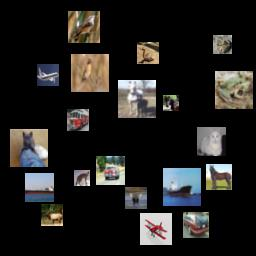airplane: (140, 213, 172, 245), (37, 64, 59, 86)
automobile: (96, 156, 125, 185), (183, 212, 209, 238)
bird: (71, 54, 109, 92), (68, 11, 100, 43), (137, 42, 159, 64)
cat: (10, 129, 48, 167), (197, 127, 226, 156), (74, 170, 90, 186)
deer: (125, 187, 147, 209), (41, 204, 63, 226)
frog: (215, 71, 253, 109), (213, 35, 232, 54)
ship: (163, 168, 201, 206), (25, 173, 54, 202)
truck: (67, 109, 89, 131)
